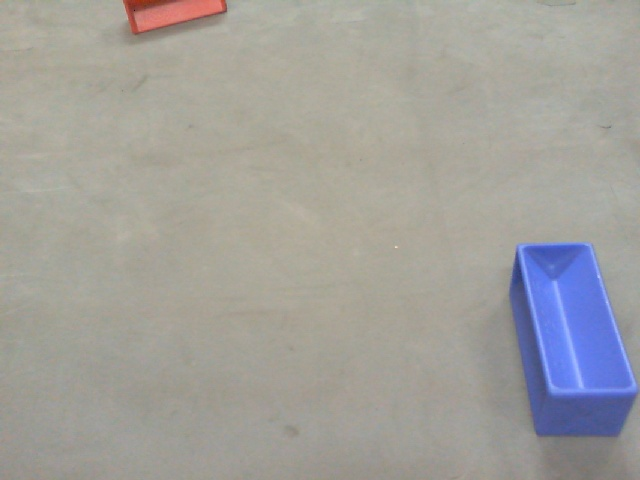BlueSample: (505, 240, 640, 446)
RedSample: (121, 1, 229, 39)
